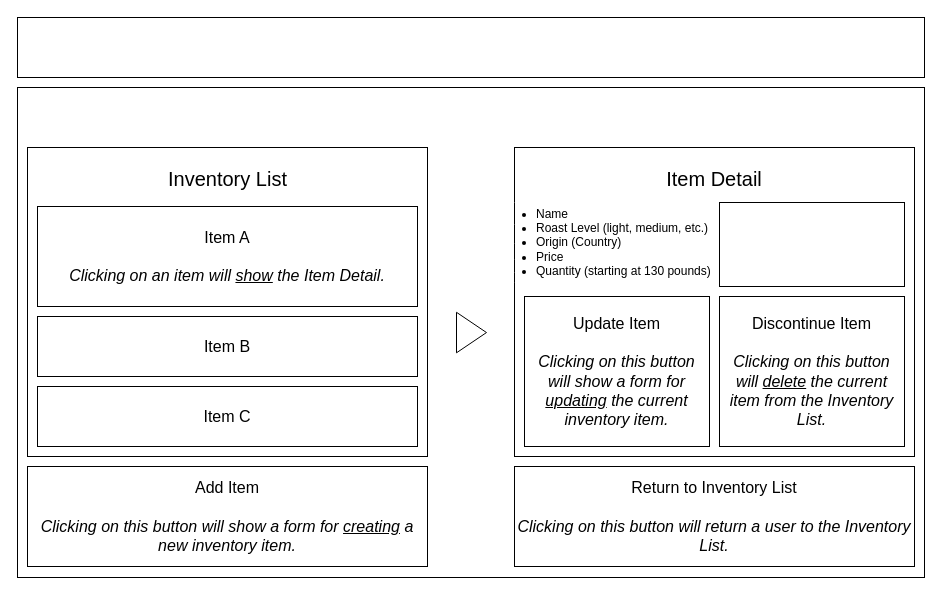
Image size: 942x595. Some labels were removed from this diagram. The shapes that lost their labels are listed below. From the top down, each one's box as (x1, y1, x2, y2) in pixels, then its label:
(16, 16, 924, 78): Header
(390, 89, 552, 146): Inventory Control
(718, 202, 904, 286): Sell Clicking on this button will decrement item quantity.
